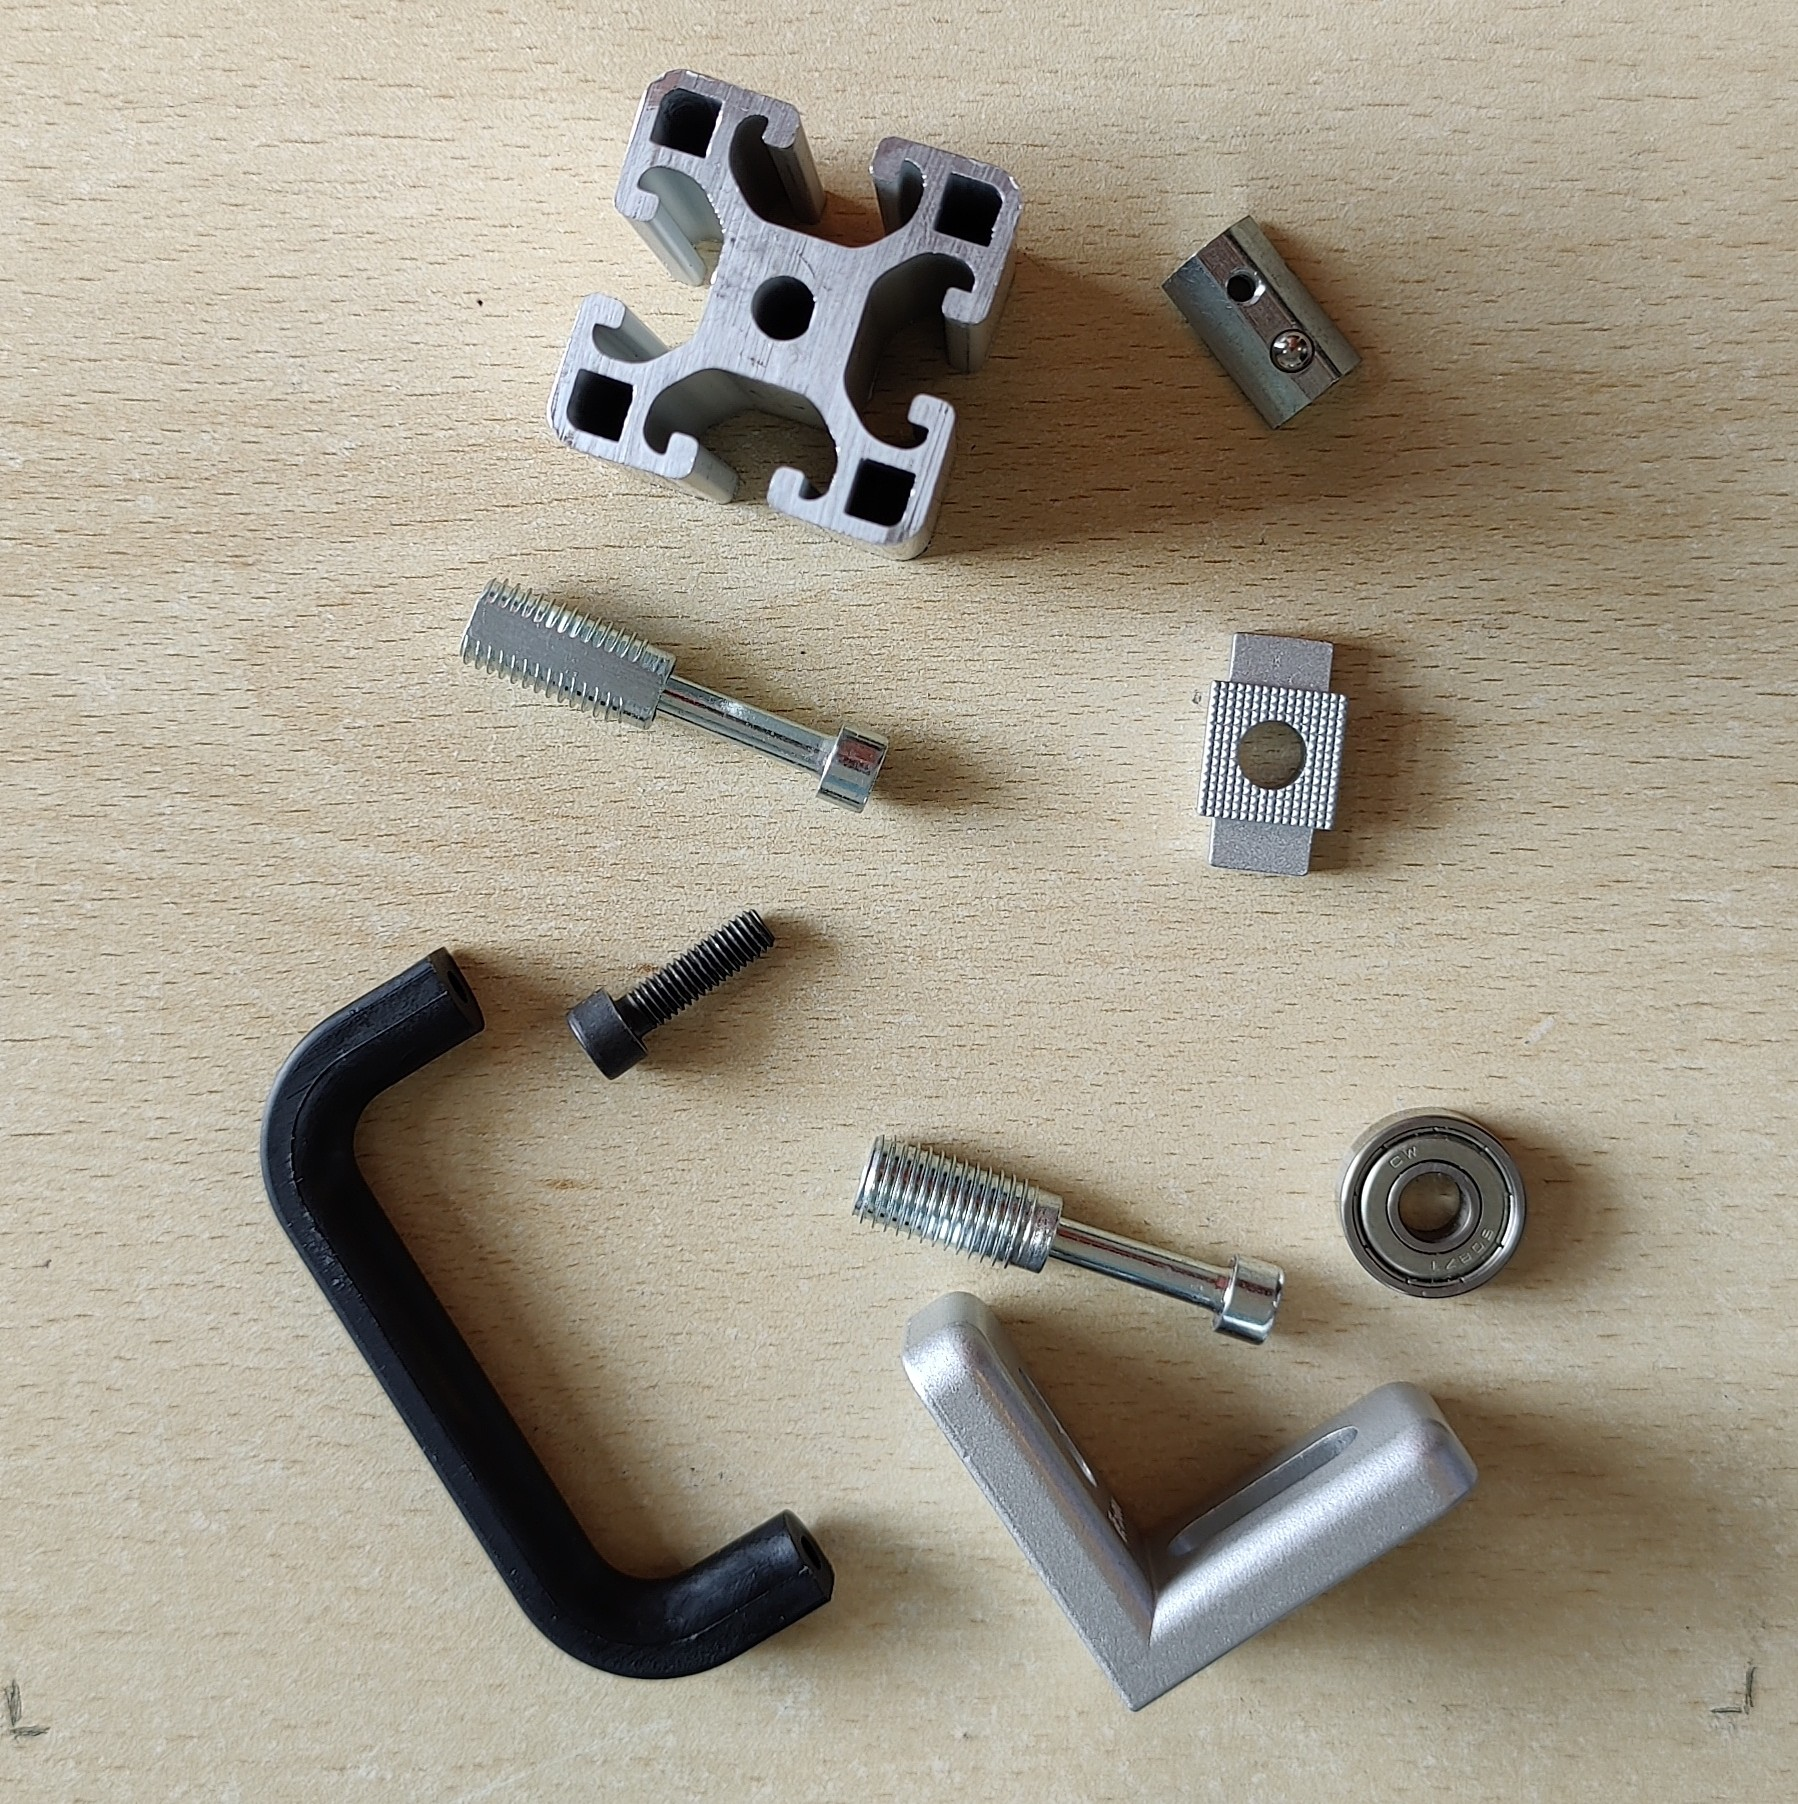Aluminium Extension: (548, 66, 1026, 565)
Ball Bearing: (1334, 1103, 1530, 1300)
Multiwinkel: (899, 1290, 1480, 1717)
Pull Handle: (255, 942, 836, 1682)
Shoulder Socket Head Cap Screw: (454, 573, 892, 815), (845, 1131, 1288, 1350)
Socket Head Cap Screw: (563, 909, 779, 1081)
T Nut Square: (1195, 627, 1352, 881)
T Spring Nut: (1154, 211, 1363, 433)
